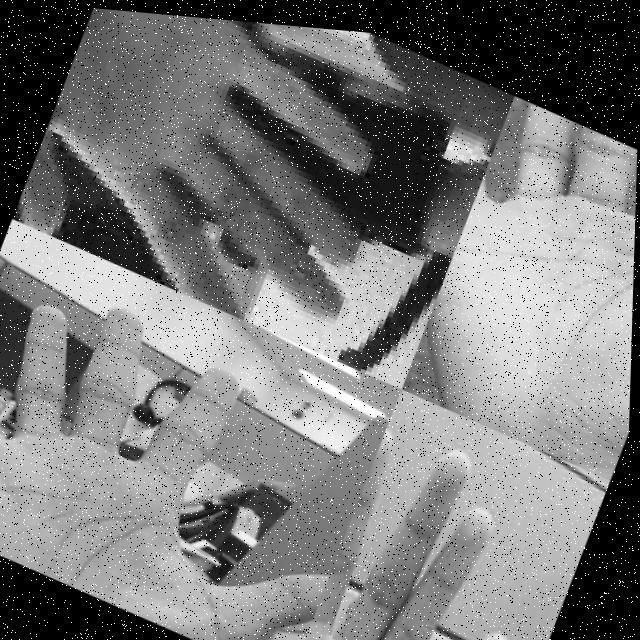no-gloves: (9, 1, 439, 356), (0, 252, 392, 640), (401, 78, 639, 468), (291, 402, 575, 640)
